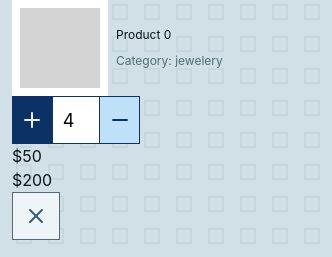
CartItem component › Product Quantity › increase the value by one when 'Increase quantity' button is clicked
Click the button named "Increase quantity": (32, 120) [13,97,52,143]
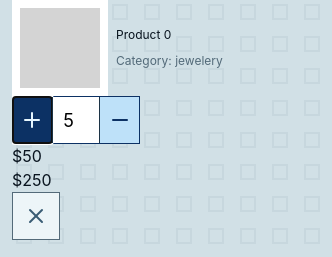
Expected: the number field named "Quantity value" holds "5", [52,97,100,143]
